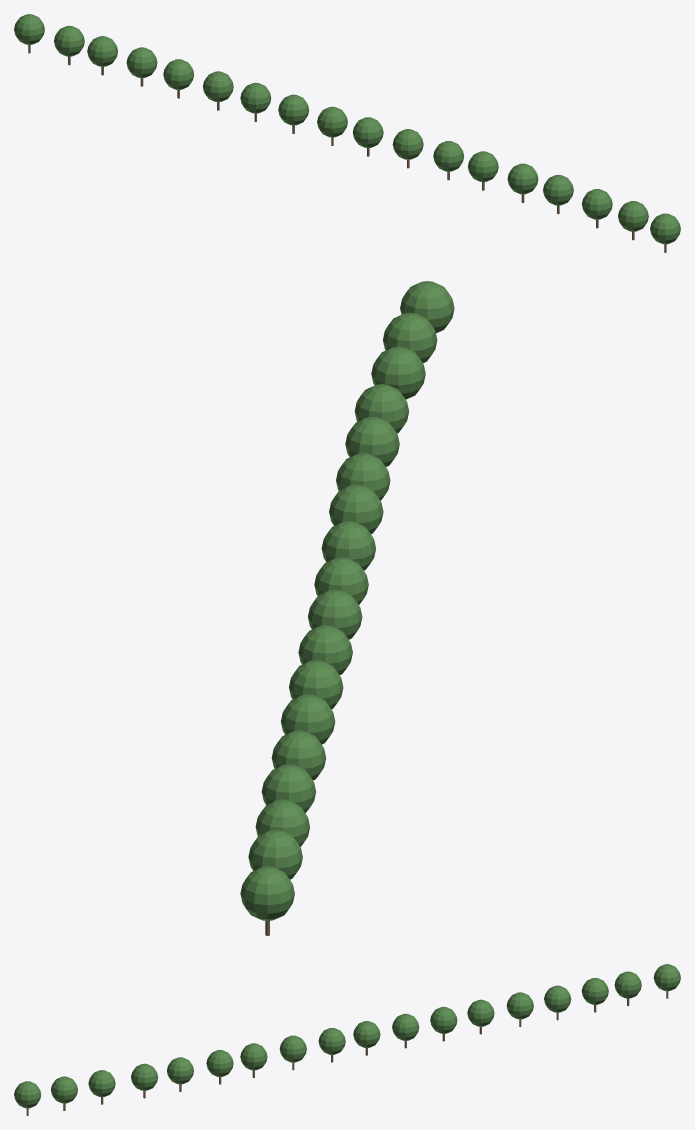
The model's file is trees-661-12977-078efc8370ad.glb.
The picture shows the model from 3 angles, top to bottom: view 1: azimuth 30°, elevation 25°; view 2: azimuth 150°, elevation 25°; view 3: azimuth 270°, elevation 25°; orthographic projection. The views are drawn at different scales.
Bounding box in the file's own units: 134 × 16.1 × 293.
